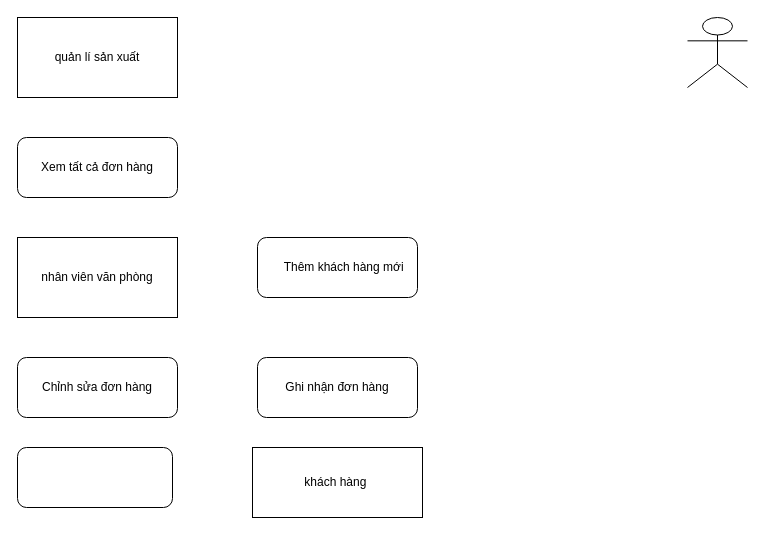
Image size: 765x535. Some labels were removed from this diagram. The shapes that lost their labels are listed below. From the top down, each one's box as (x1, y1, x2, y2) in pixels, then its label:
(686, 16, 748, 88): Actor
(16, 446, 172, 508): Tạo hoá đơn
